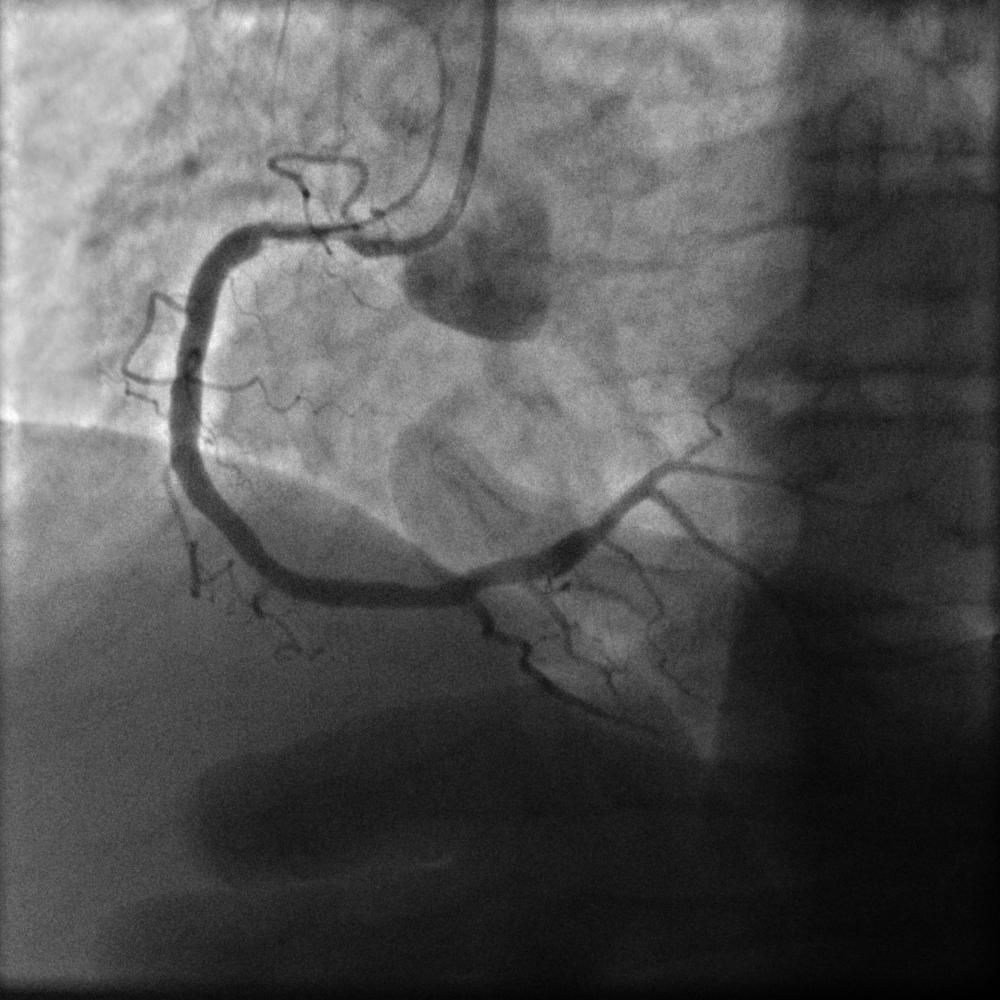Stenosis: (254, 213, 358, 262)
